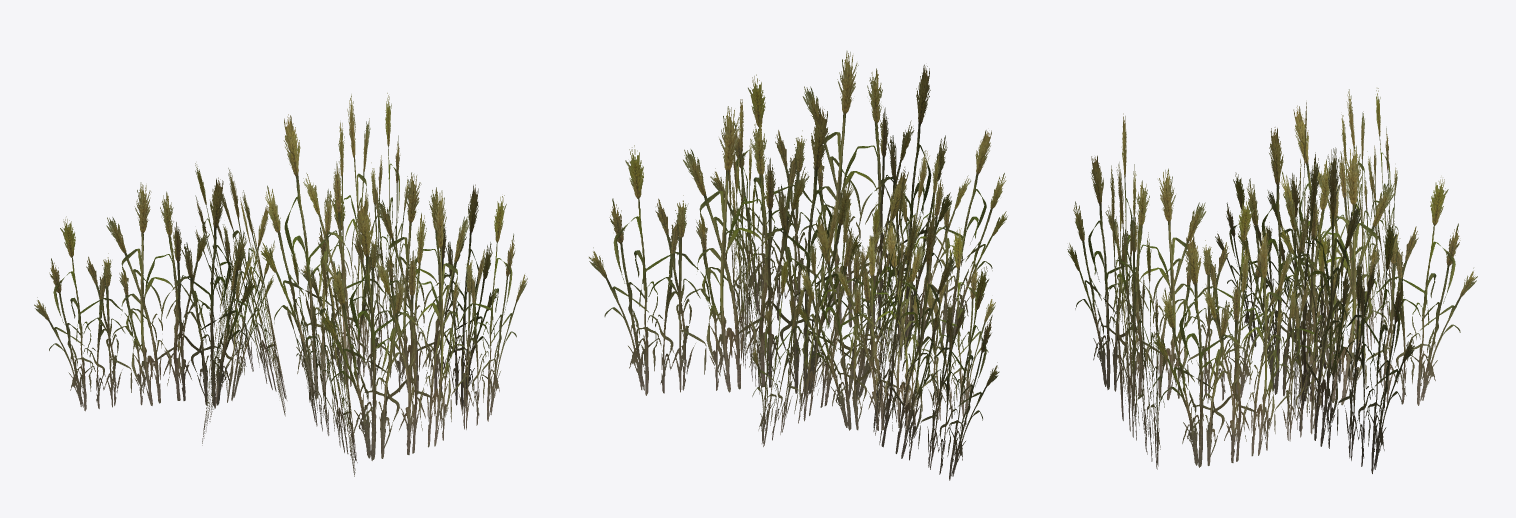
File: bg_anh_foliage_a_crops06_sm_ksy (2).FBX
3 renders of one model, left to right at view 1: azimuth 30°, elevation 25°; view 2: azimuth 150°, elevation 25°; view 3: azimuth 270°, elevation 25°, orthographic. The views are drawn at different scales.
Visible parts, largest first — view 1: bg_anh_foliage_a_crops06_sm_ksy; view 2: bg_anh_foliage_a_crops06_sm_ksy; view 3: bg_anh_foliage_a_crops06_sm_ksy.
Boxes of the visible parts, <box> form: bg_anh_foliage_a_crops06_sm_ksy: <box>34,93,527,476</box>; bg_anh_foliage_a_crops06_sm_ksy: <box>589,51,1007,480</box>; bg_anh_foliage_a_crops06_sm_ksy: <box>1067,88,1477,473</box>.
Size of the model in its own units: 221 by 154 by 189.
